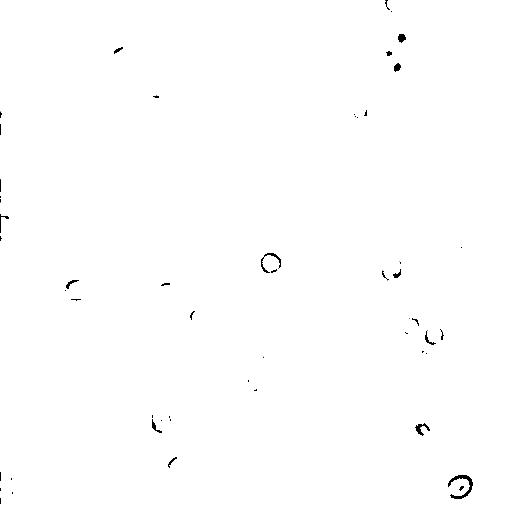micro-algae: (25, 109, 86, 171), (297, 0, 339, 36), (78, 86, 118, 116), (62, 226, 98, 255), (381, 52, 412, 85), (249, 438, 277, 474), (388, 21, 418, 54), (103, 44, 137, 73), (400, 341, 434, 368), (444, 473, 476, 500), (165, 455, 193, 485), (155, 280, 186, 307), (380, 254, 405, 284), (35, 297, 62, 324), (489, 230, 511, 263), (62, 278, 91, 303), (253, 337, 279, 363), (144, 234, 171, 257), (150, 408, 173, 434), (423, 324, 446, 347), (1, 472, 17, 504), (261, 252, 283, 275), (348, 97, 369, 121), (242, 376, 266, 397), (188, 307, 209, 330), (400, 315, 421, 337), (453, 231, 477, 250), (1, 215, 16, 241), (413, 421, 434, 439), (383, 0, 411, 12), (2, 185, 9, 214), (2, 112, 10, 132)
